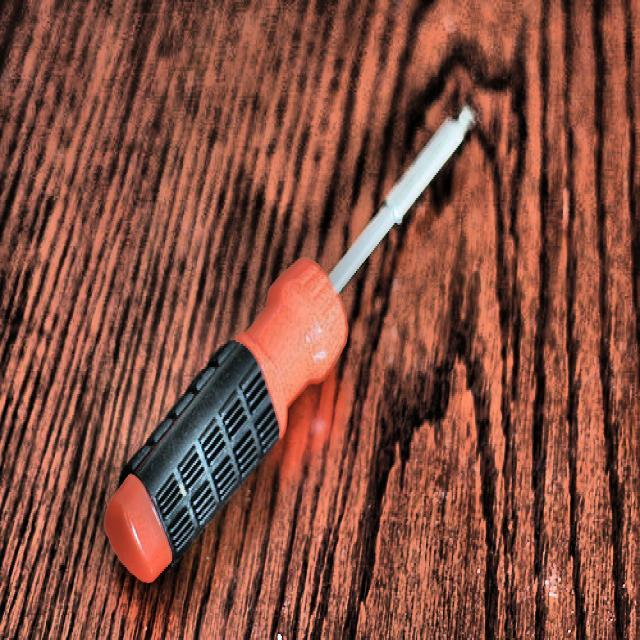screwdriver: (106, 105, 477, 584)
